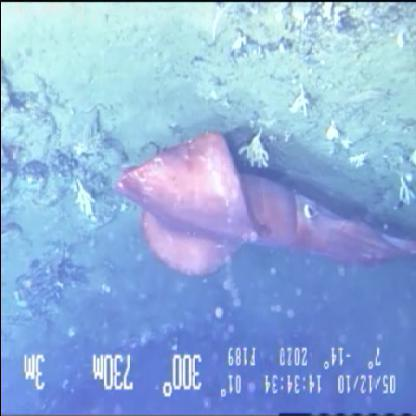Bio: (109, 124, 415, 282), (235, 122, 270, 170), (284, 81, 312, 119)
